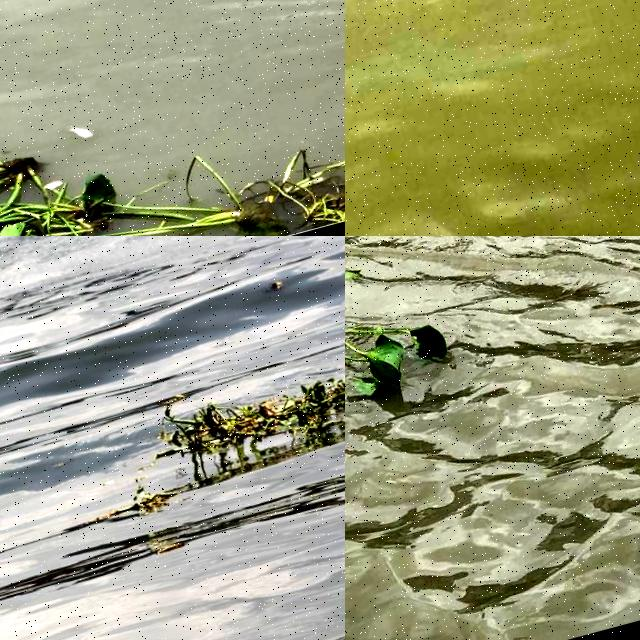water-hyacinth: (1, 148, 345, 237), (346, 237, 489, 439), (150, 361, 346, 467)
